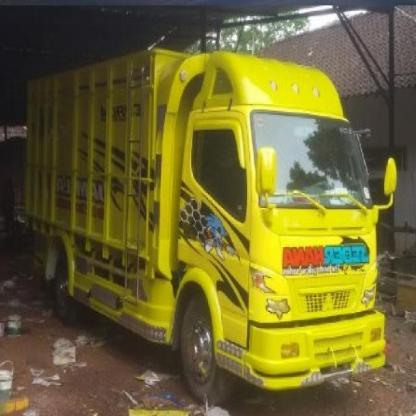truck: (28, 44, 399, 405)
